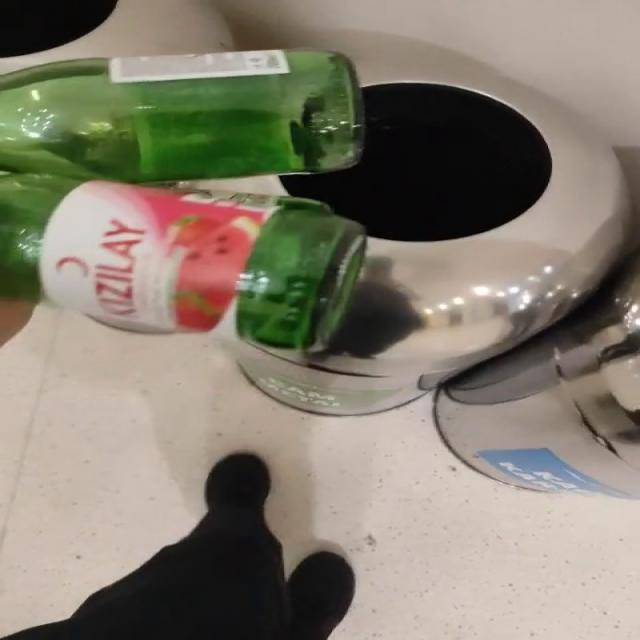bin: (4, 0, 632, 415)
glass: (0, 49, 365, 351)
